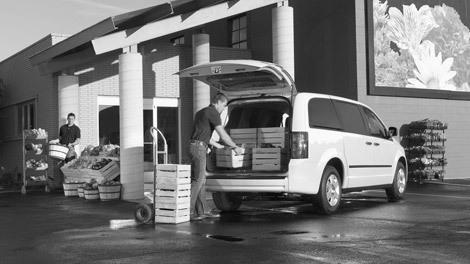car: (172, 58, 412, 210)
